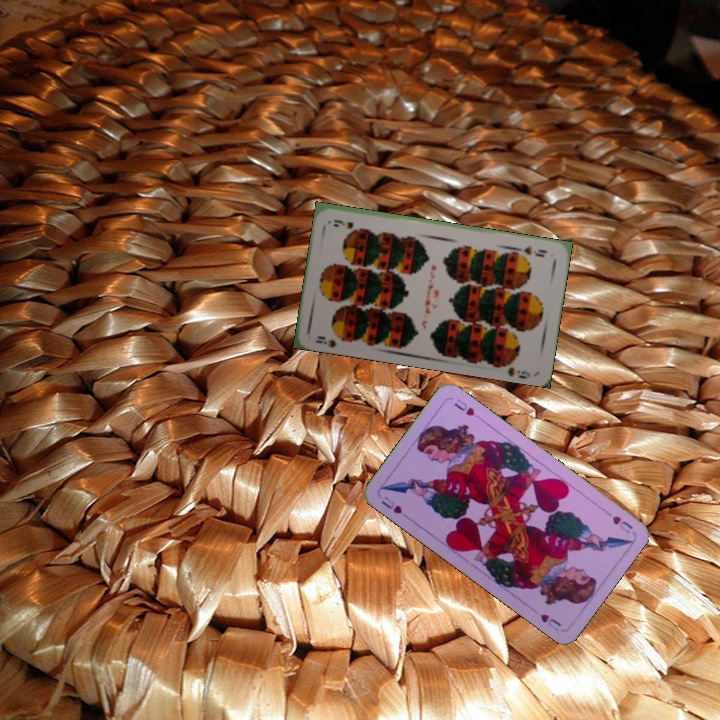HU: (600, 506, 635, 536), (377, 492, 405, 516)
S9: (312, 331, 350, 350), (514, 241, 550, 260)
